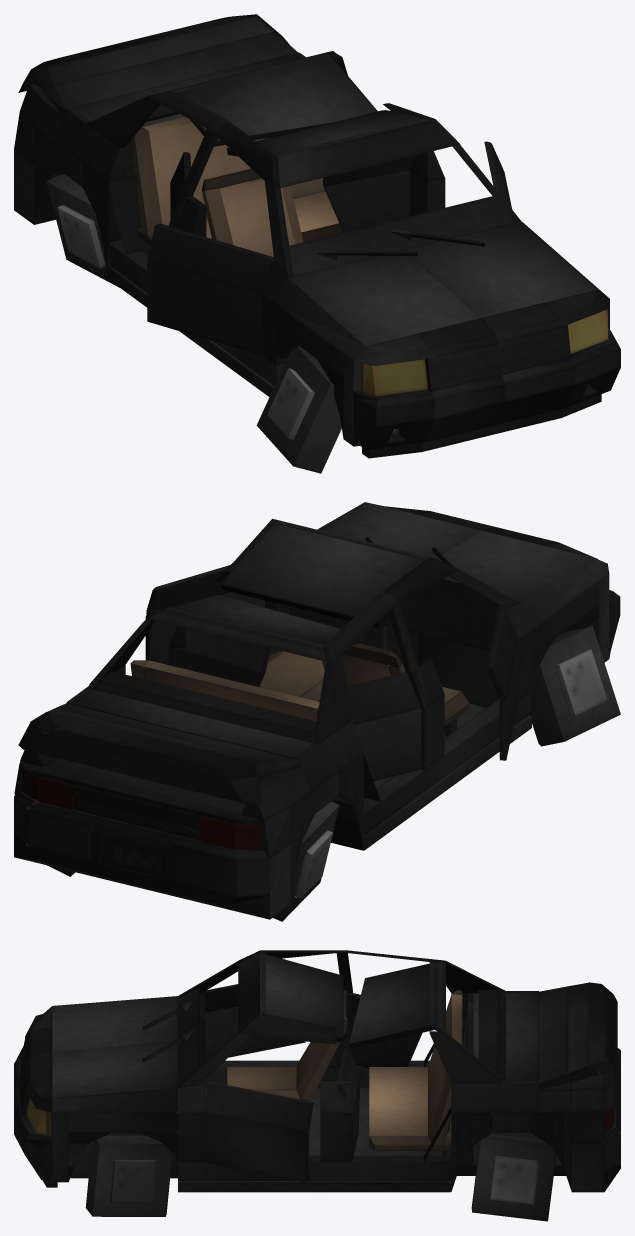
The model's file is wreckage1.obj.
The picture shows the model from 3 angles, top to bottom: view 1: azimuth 30°, elevation 25°; view 2: azimuth 150°, elevation 25°; view 3: azimuth 270°, elevation 25°; orthographic projection. The views are drawn at different scales.
Visible parts, largest first — view 1: baseModel4, baseModel24, baseModel192, baseModel186, baseModel160, baseModel96, baseModel140, baseModel175, baseModel187, baseModel162, baseModel70, baseModel185 (+58 smaller); view 2: baseModel193, baseModel4, baseModel175, baseModel147, baseModel163, baseModel5, baseModel149, baseModel96, baseModel142, baseModel24, baseModel164, baseModel165 (+51 smaller); view 3: baseModel24, baseModel4, baseModel182, baseModel2, baseModel192, baseModel115, baseModel193, baseModel174, baseModel176, baseModel68, baseModel183, baseModel142 (+58 smaller).
Part boxes in pixels (x1=…): baseModel4: x1=276, y1=249, x2=481, y2=361; baseModel24: x1=404, y1=221, x2=609, y2=317; baseModel192: x1=172, y1=53, x2=377, y2=146; baseModel186: x1=147, y1=261, x2=262, y2=355; baseModel160: x1=45, y1=32, x2=297, y2=114; baseModel96: x1=289, y1=196, x2=514, y2=275; baseModel140: x1=275, y1=118, x2=454, y2=188; baseModel175: x1=256, y1=346, x2=341, y2=473; baseModel187: x1=147, y1=224, x2=273, y2=294; baseModel162: x1=31, y1=14, x2=281, y2=93; baseModel70: x1=142, y1=117, x2=325, y2=225; baseModel185: x1=323, y1=170, x2=410, y2=232; baseModel193: x1=221, y1=518, x2=428, y2=627; baseModel4: x1=433, y1=530, x2=608, y2=630; baseModel175: x1=529, y1=625, x2=620, y2=746; baseModel147: x1=18, y1=721, x2=262, y2=804; baseModel163: x1=31, y1=712, x2=256, y2=779; baseModel5: x1=364, y1=691, x2=531, y2=835; baseModel149: x1=92, y1=671, x2=316, y2=743; baseModel96: x1=381, y1=579, x2=501, y2=651; baseModel142: x1=73, y1=687, x2=312, y2=758; baseModel24: x1=317, y1=502, x2=480, y2=557; baseModel164: x1=14, y1=833, x2=269, y2=919; baseModel165: x1=172, y1=845, x2=269, y2=896; baseModel24: x1=52, y1=1043, x2=177, y2=1112; baseModel4: x1=52, y1=996, x2=177, y2=1051; baseModel182: x1=203, y1=1113, x2=309, y2=1182; baseModel2: x1=178, y1=1087, x2=451, y2=1192; baseModel192: x1=349, y1=963, x2=434, y2=1048; baseModel115: x1=178, y1=1155, x2=451, y2=1180; baseModel193: x1=260, y1=953, x2=343, y2=1042; baseModel174: x1=85, y1=1135, x2=172, y2=1216; baseModel176: x1=471, y1=1134, x2=556, y2=1221; baseModel68: x1=369, y1=1067, x2=451, y2=1145; baseModel183: x1=203, y1=1081, x2=313, y2=1132; baseModel142: x1=473, y1=993, x2=538, y2=1081.
Bounding box in the file's own units: 3.85 × 2.41 × 6.94.
Materials: 1 (1 with a texture image).
